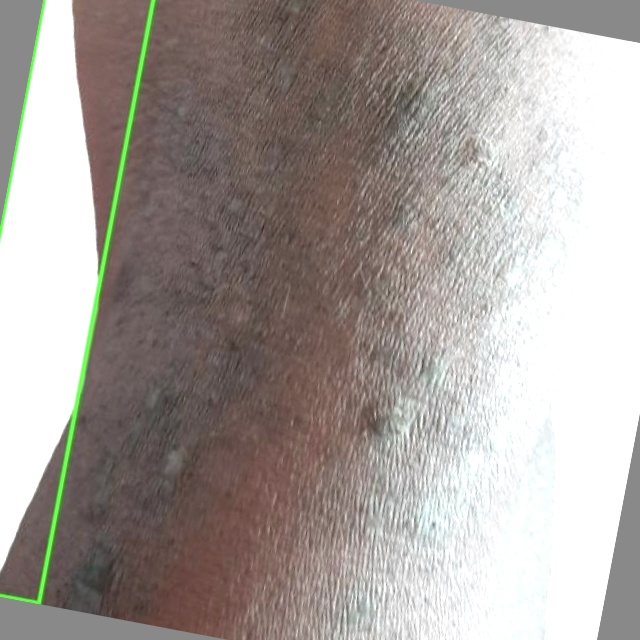Contact Dermatitis: (0, 0, 153, 603)
